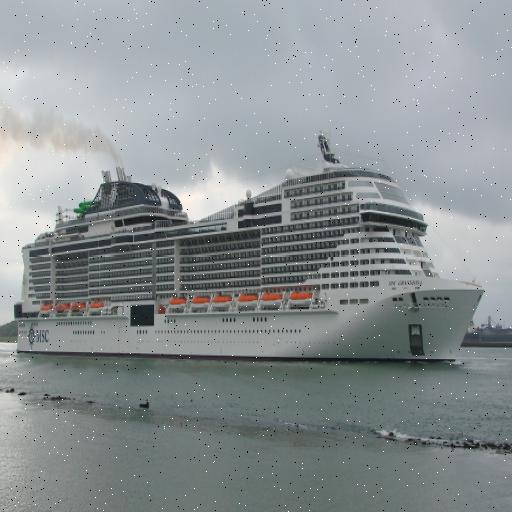cruises: (12, 129, 492, 379)
